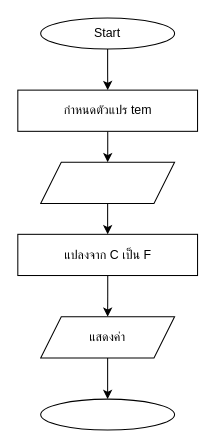
Image size: 216x448. Some labels were removed from this diagram. Here are the shapes that lost their labels. From the top down, the centre of each, then its label:
At [107,182]: "รับค่า tem".
At [107,414]: "End".
